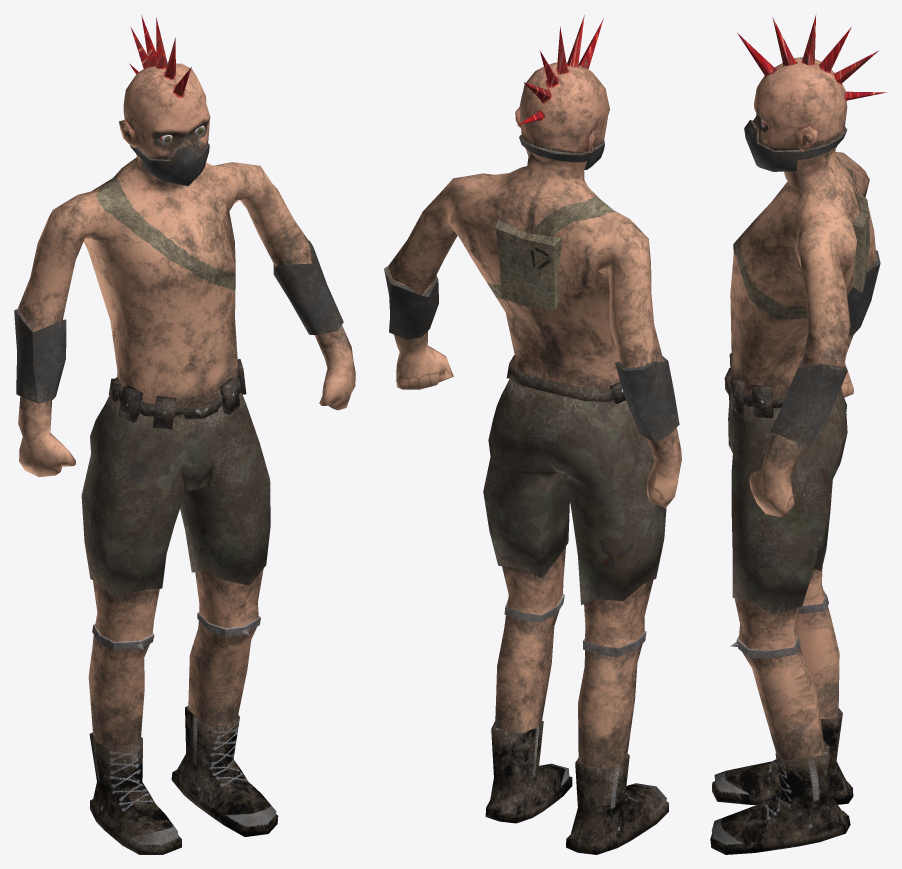
File: Anim_ganar_1_npc2.0013.obj
3 renders of one model, left to right at view 1: azimuth 30°, elevation 25°; view 2: azimuth 150°, elevation 25°; view 3: azimuth 270°, elevation 25°, orthographic.
Visible parts, largest first — view 1: polySurface1; view 2: polySurface1; view 3: polySurface1.
Boxes of the visible parts, x1,y1,x2,y2 form: polySurface1: (14, 15, 355, 854); polySurface1: (384, 15, 681, 854); polySurface1: (710, 14, 886, 854).
Size of the model in its own units: 4.1 by 10.17 by 2.03.
